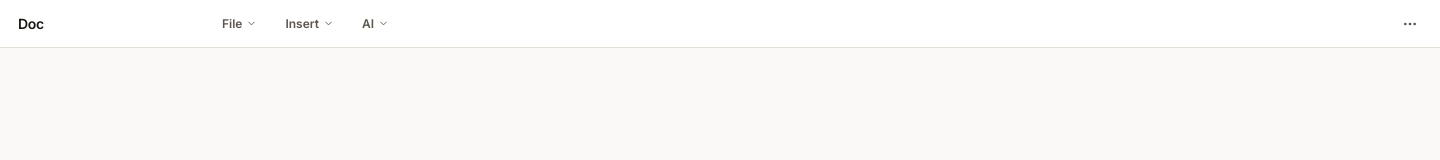
TopBar › enables the AI items once text is selected
What coordinates should you click on to do the following:
click the button with test id "topbar-ai"
I would click on:
 (376, 24)
Its box is [352,10,399,38].
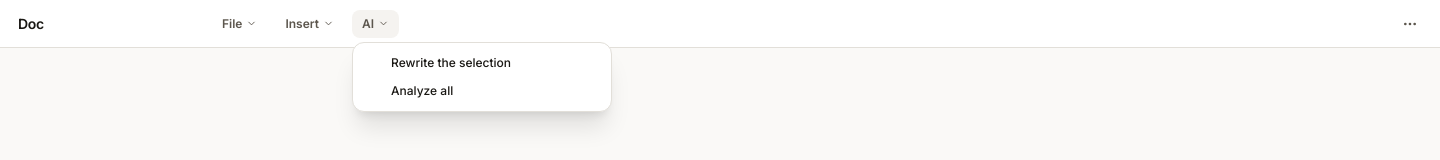
Expected: the menu item with test id "item-rewrite" is enabled, [359,48,605,76]
